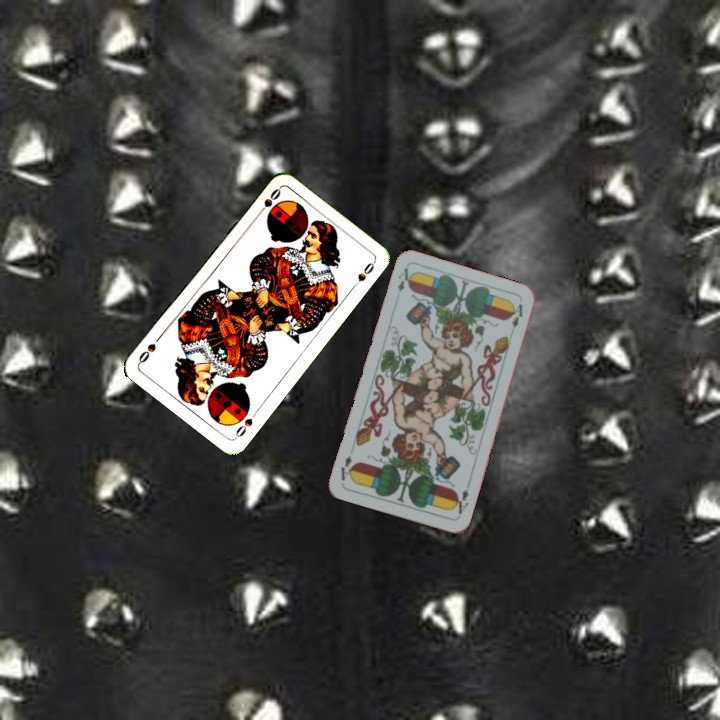EA: (449, 479, 473, 517), (393, 264, 415, 294)
SO: (253, 184, 283, 219), (231, 406, 261, 441)
